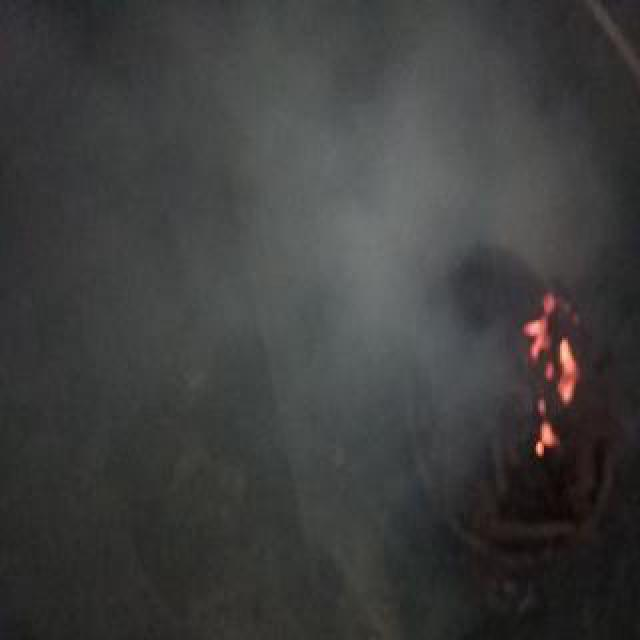Fire: (524, 278, 588, 448)
Smoke: (24, 78, 506, 562)
